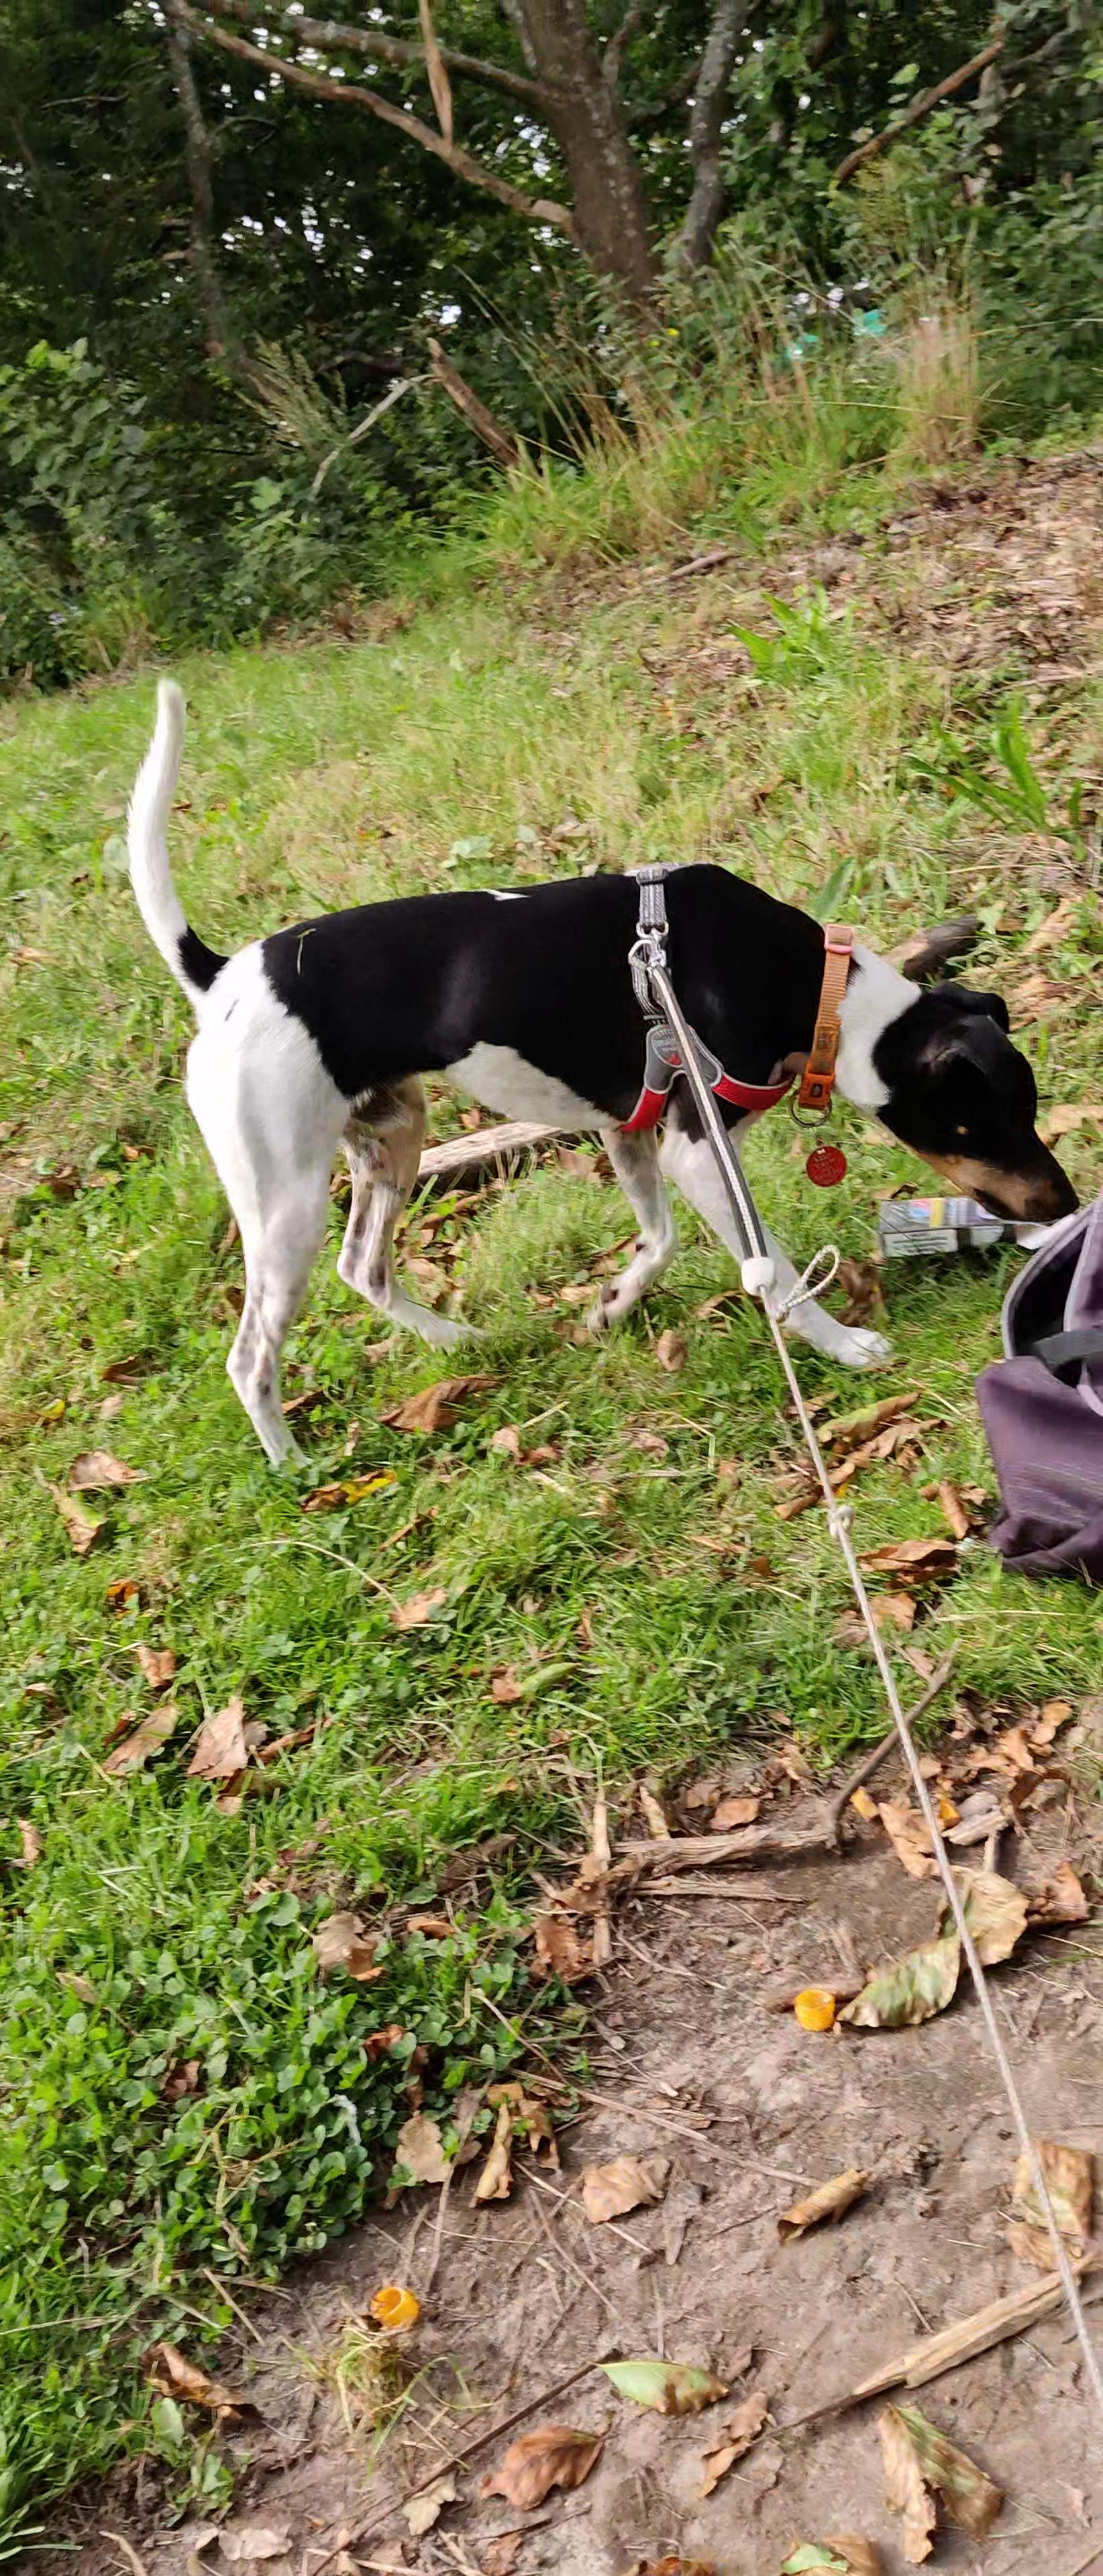Dog: (117, 669, 1077, 1493)
